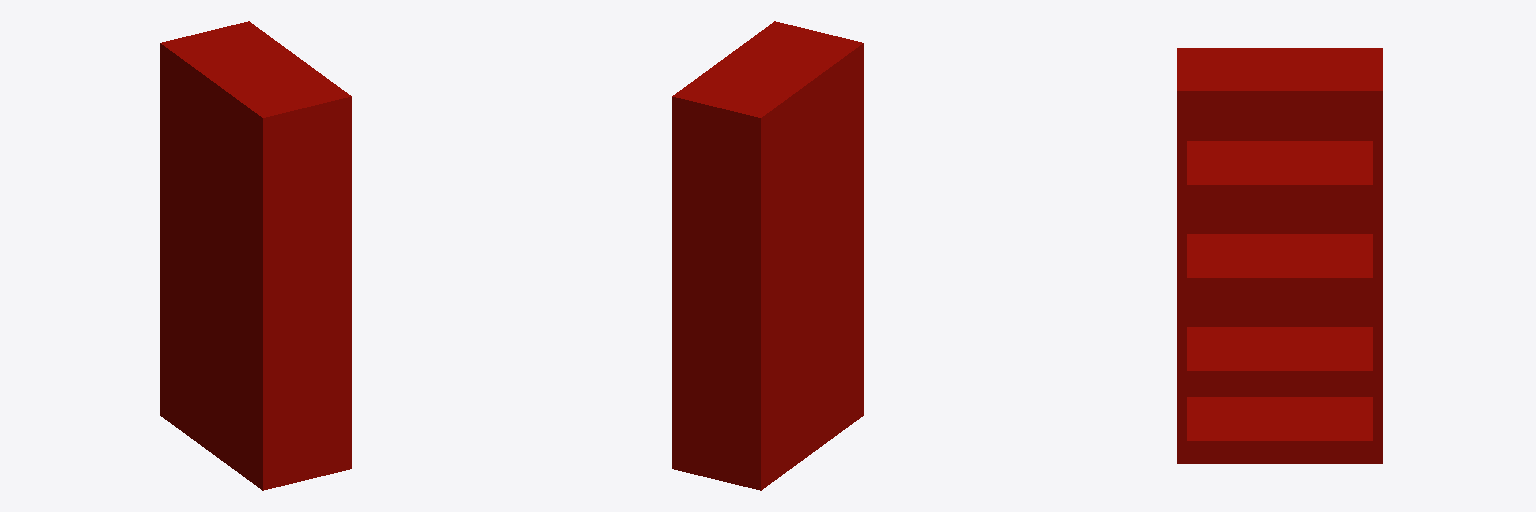
The model's file is bookshelf.obj.
3 views of the same model, side by side, from view 1: azimuth 30°, elevation 25°; view 2: azimuth 150°, elevation 25°; view 3: azimuth 270°, elevation 25° (orthographic).
Visible parts, largest first — view 1: Book_Shelf_Cube; view 2: Book_Shelf_Cube; view 3: Book_Shelf_Cube.
Part boxes in pixels (x1,y1,x2,y2): Book_Shelf_Cube: (160, 21, 351, 490); Book_Shelf_Cube: (672, 21, 863, 490); Book_Shelf_Cube: (1177, 48, 1382, 463).
Size of the model in its own units: 1 by 4 by 2.